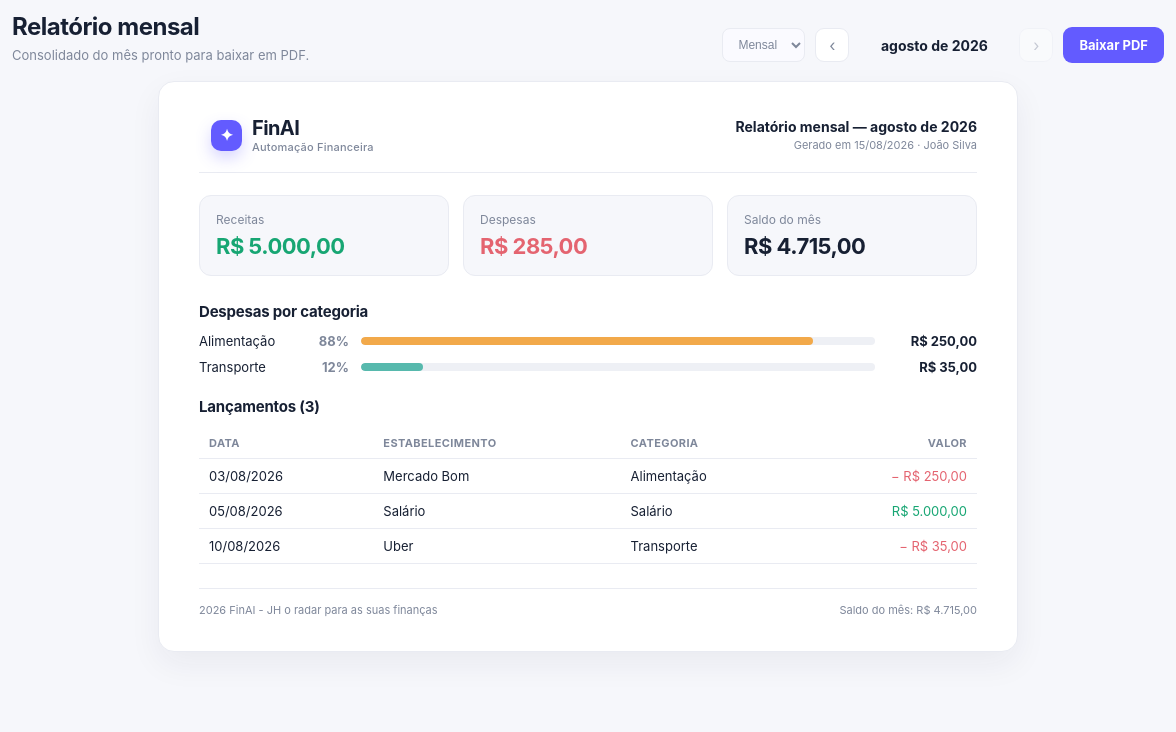
Test: MonthlyReport › navega para o mês anterior e atualiza a lista
Click the button named "Mês anterior" at (832, 45), box left=815, top=28, right=849, bottom=62
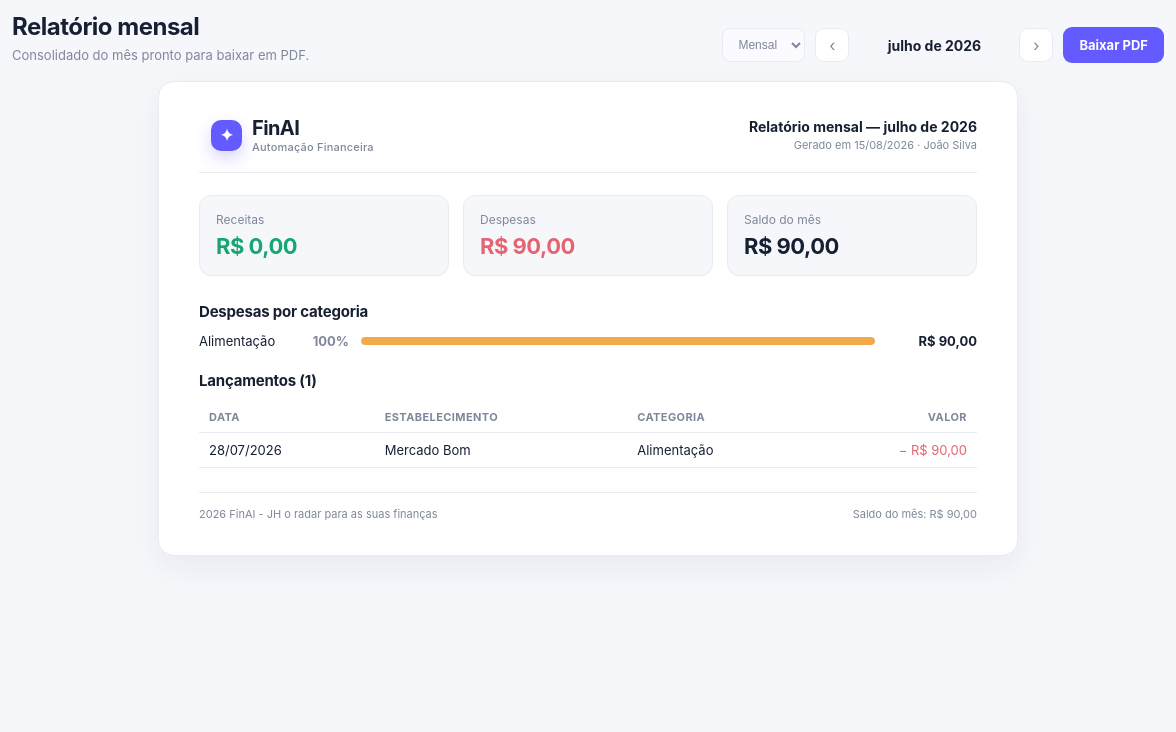
Result: the text "julho de 2026" is shown at left=888, top=36, right=981, bottom=54
Result: the 1st text "R$ 90,00" is shown at left=480, top=233, right=575, bottom=259
